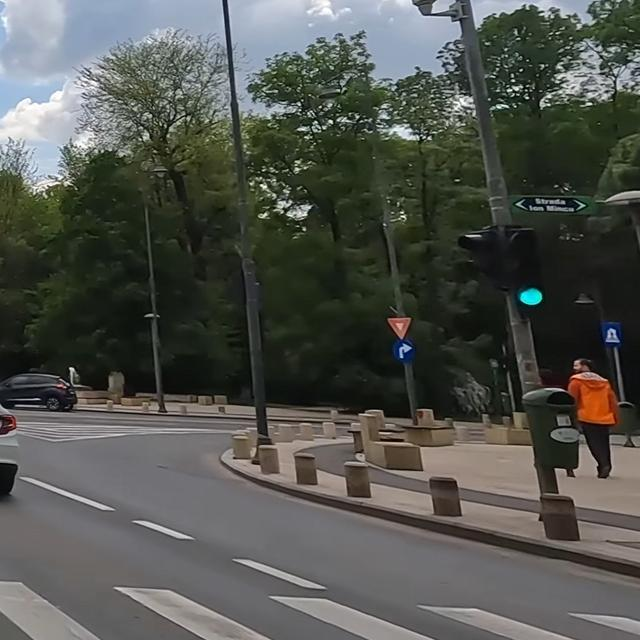info_crosswalk: (601, 321, 622, 346)
prio_give_way: (386, 316, 412, 340)
